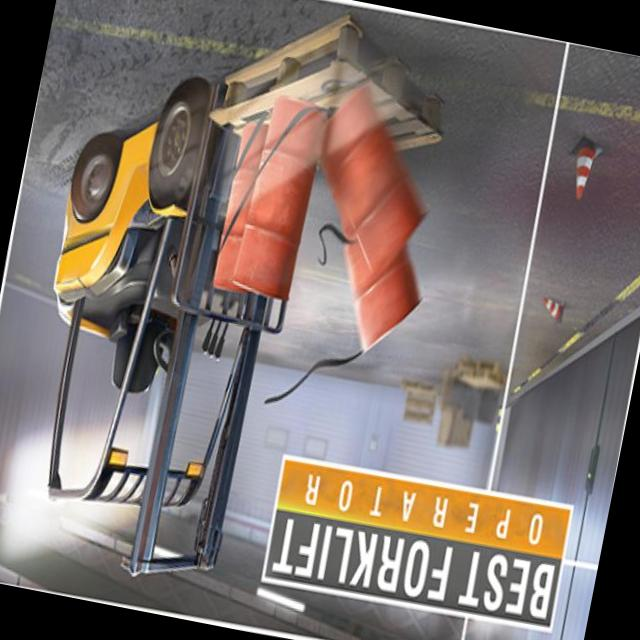forklift: (0, 48, 311, 569)
